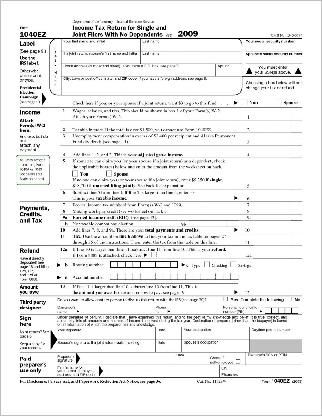checkbox: (71, 170, 79, 177), (105, 170, 113, 177), (150, 251, 158, 258), (229, 261, 237, 268), (222, 295, 230, 302), (285, 295, 293, 302), (234, 358, 242, 365), (241, 99, 248, 106), (275, 98, 282, 105), (203, 261, 210, 268)
textbox: (60, 74, 243, 96), (60, 62, 217, 77), (245, 156, 293, 192), (138, 49, 243, 65), (139, 37, 243, 53), (57, 338, 156, 354), (76, 352, 176, 367), (243, 270, 293, 297), (60, 49, 142, 65), (104, 363, 222, 374), (60, 37, 141, 53), (108, 272, 241, 281), (103, 369, 221, 379), (180, 326, 251, 342), (180, 338, 251, 354), (245, 350, 303, 366), (248, 325, 305, 341), (218, 363, 304, 373), (244, 187, 293, 204), (244, 219, 293, 235), (244, 244, 293, 260), (219, 369, 305, 378), (243, 232, 292, 247), (288, 255, 305, 297), (245, 107, 292, 122), (246, 119, 293, 134), (245, 132, 292, 147), (246, 144, 293, 159), (109, 260, 179, 269), (173, 350, 210, 366), (288, 156, 304, 190), (215, 61, 243, 78), (246, 200, 293, 210), (246, 206, 293, 216), (154, 325, 183, 341), (154, 338, 183, 354), (246, 212, 293, 221), (186, 218, 228, 228), (263, 306, 300, 315), (289, 106, 305, 122), (289, 118, 305, 134), (288, 188, 304, 203), (290, 219, 305, 235), (289, 231, 304, 247), (289, 244, 304, 260), (289, 144, 304, 159), (290, 131, 306, 140), (289, 137, 305, 146), (290, 200, 304, 210), (289, 207, 303, 216), (289, 213, 303, 222)
textline: (57, 327, 153, 341), (76, 304, 153, 315), (244, 39, 304, 52), (244, 52, 304, 65), (165, 305, 221, 316)
